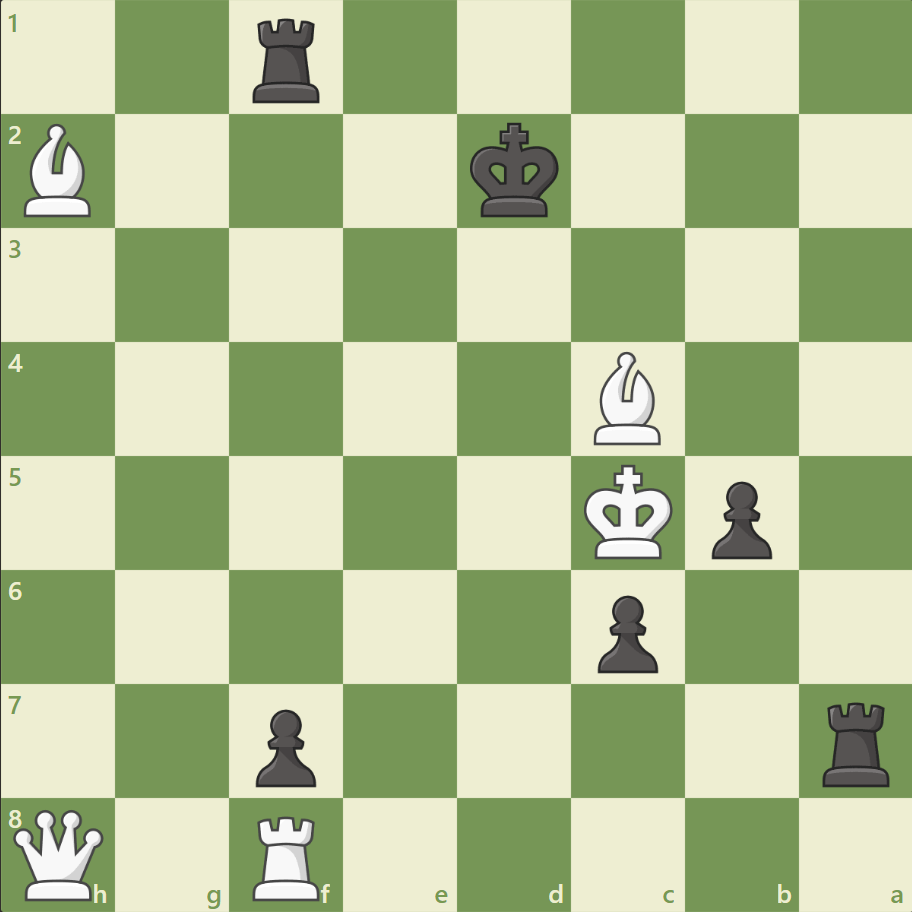B: (585, 347, 669, 449), (17, 120, 101, 222)
K: (579, 458, 679, 566)
Q: (10, 804, 109, 903)
R: (246, 806, 329, 904)
k: (465, 117, 565, 225)
p: (247, 700, 322, 791), (701, 473, 776, 564), (588, 586, 662, 677)
r: (814, 693, 897, 790), (246, 12, 329, 109)
